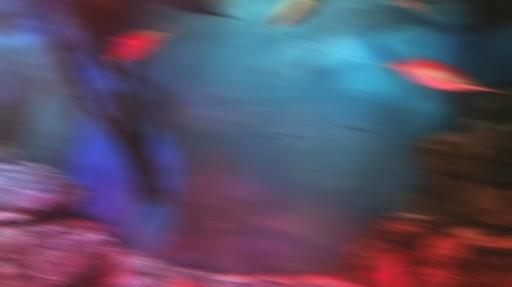Fish: (386, 54, 501, 92), (105, 23, 176, 69), (263, 0, 314, 33), (170, 0, 235, 18), (382, 253, 403, 286), (396, 0, 433, 18), (365, 265, 388, 286), (173, 278, 199, 286), (231, 0, 236, 7), (100, 0, 106, 1)
